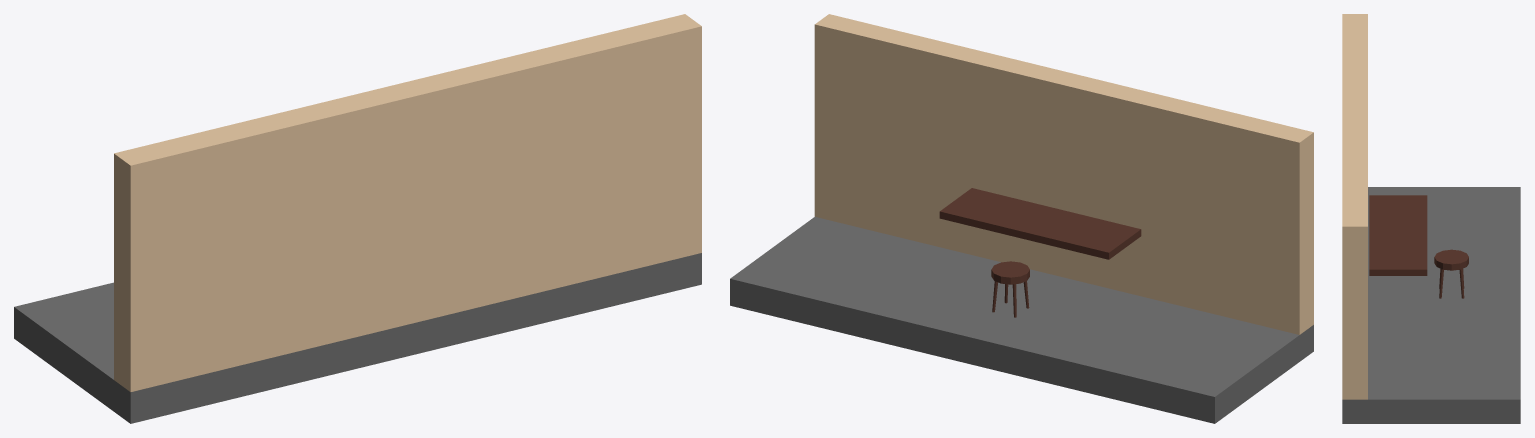
File: Alchemy Station.glb
3 views of the same model, side by side, from view 1: azimuth 30°, elevation 25°; view 2: azimuth 150°, elevation 25°; view 3: azimuth 270°, elevation 25° (orthographic). The views are drawn at different scales.
Visible parts, largest first — view 1: Cube.002, Cube.001; view 2: Cube.002, Cube.001, Cube, Cylinder.001; view 3: Cube.001, Cube.002, Cube, Cylinder.001.
Boxes of the visible parts, x1,y1,x2,y2 form: Cube.002: (114, 14, 701, 391); Cube.001: (14, 253, 701, 423); Cube.002: (814, 14, 1313, 334); Cube.001: (730, 217, 1313, 423); Cube: (939, 188, 1141, 259); Cylinder.001: (991, 261, 1029, 317); Cube.001: (1342, 187, 1520, 423); Cube.002: (1342, 14, 1367, 399); Cube: (1369, 195, 1427, 275); Cylinder.001: (1434, 249, 1468, 298).
Bounding box in the file's own units: 5.65 × 2.44 × 2.
